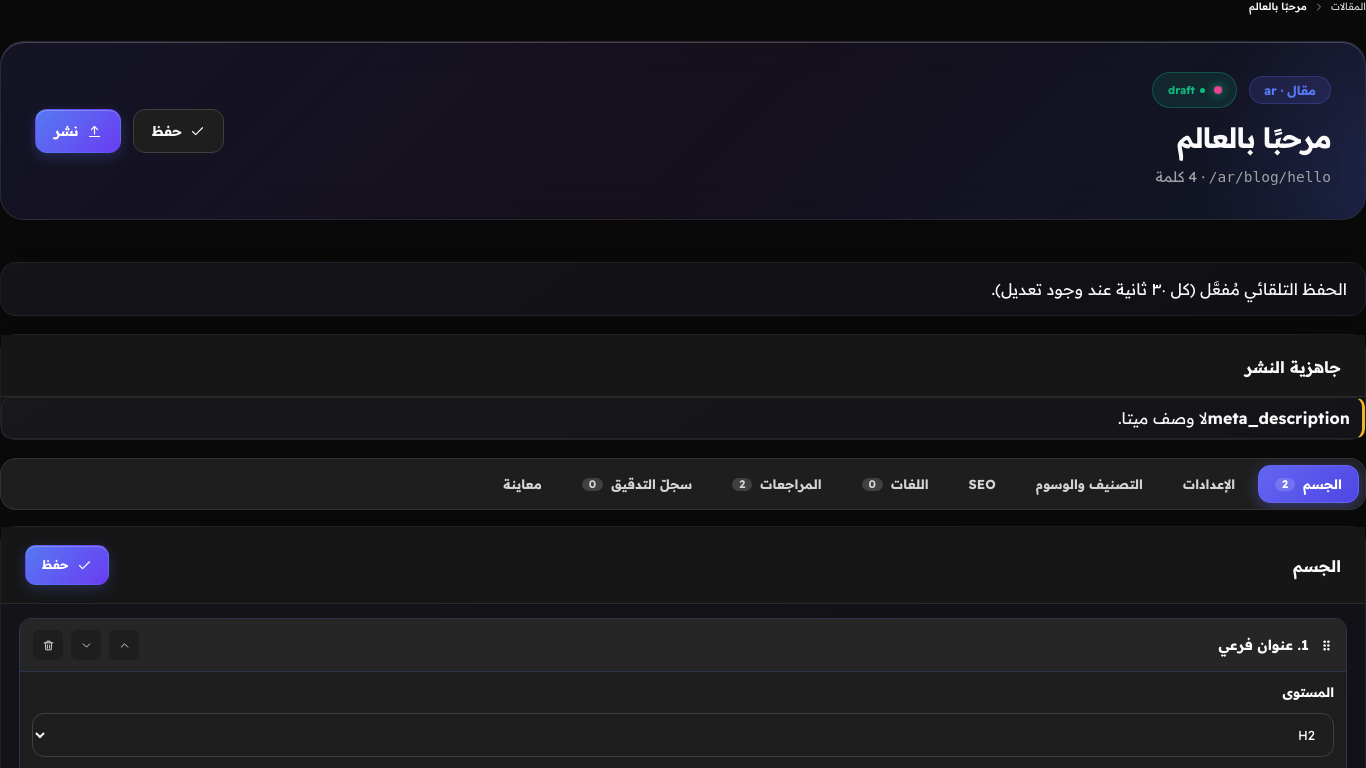
Test: BlogPostEditor › a refused publish lists the blockers the server returned
Step 1. Click the button "نشر" → (78, 131), box [35,109,120,153]
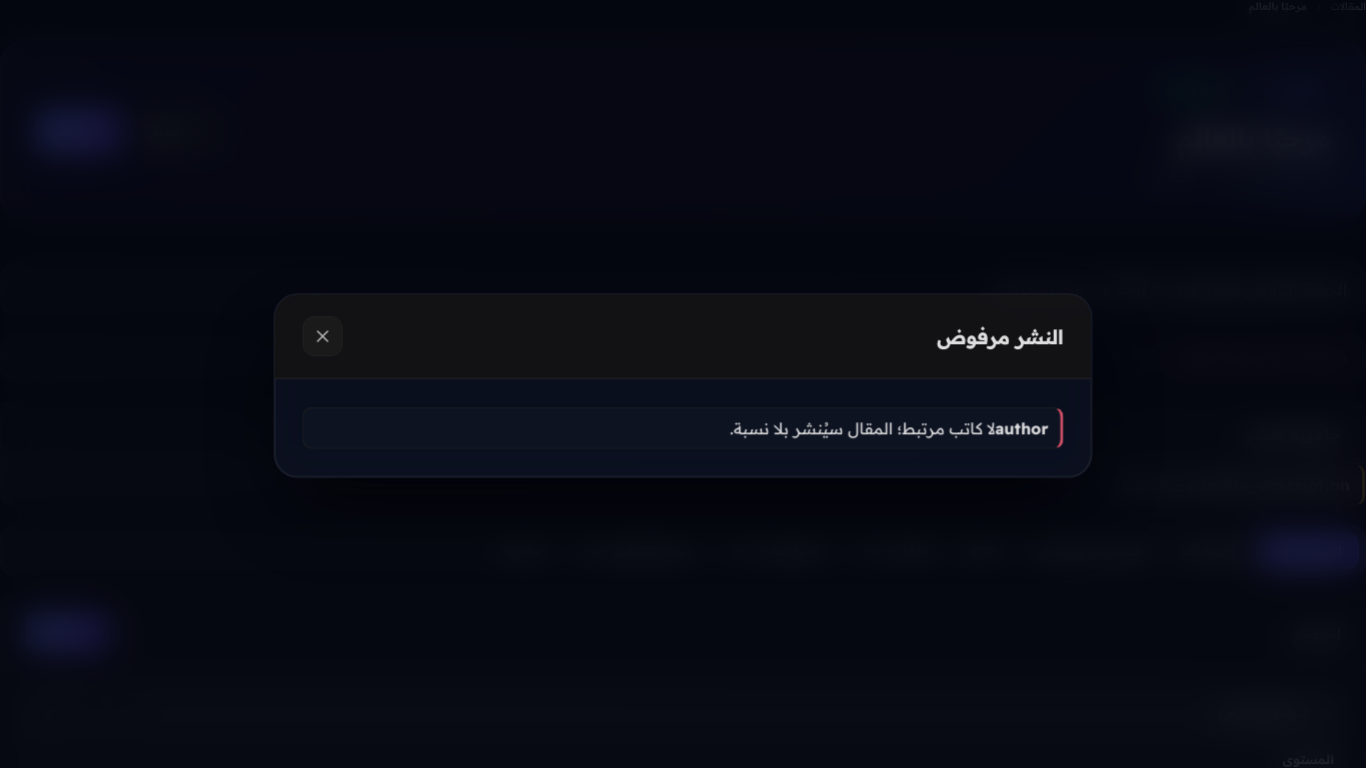
Expected: the text "لا كاتب مرتبط؛ المقال سيُنشر بلا نسبة." is shown, [730,416,996,436]
